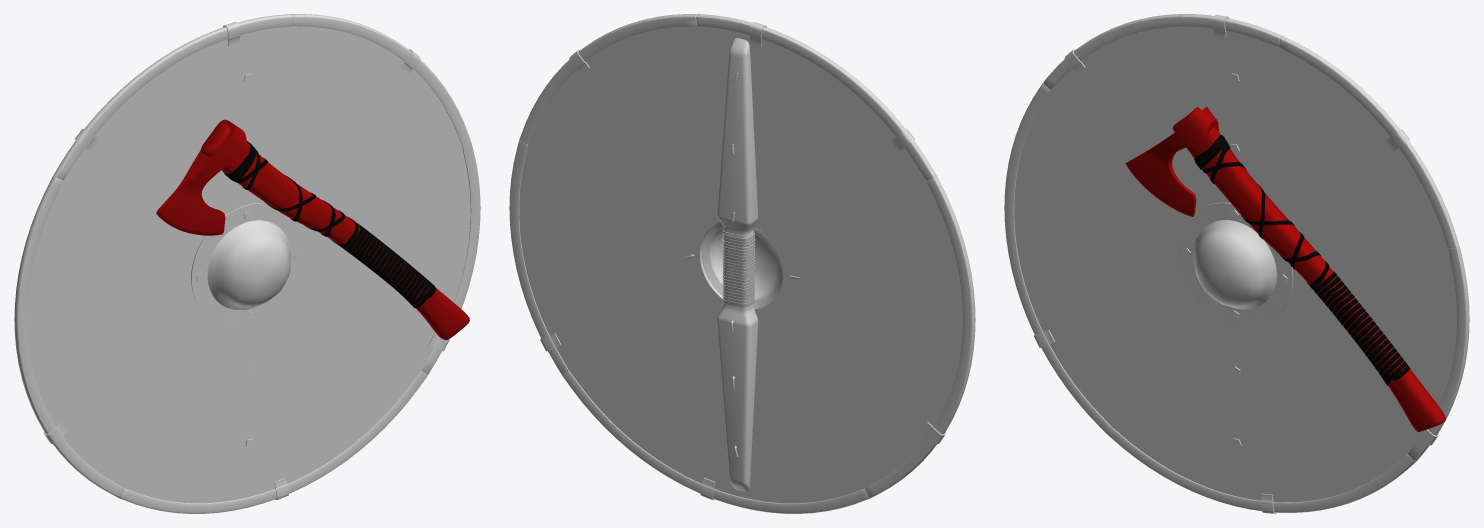
The model's file is axe_shield.fbx.
The picture shows the model from 3 angles, left to right: view 1: azimuth 30°, elevation 25°; view 2: azimuth 150°, elevation 25°; view 3: azimuth 330°, elevation 25°; orthographic projection.
Parts seen in each view (by area): view 1: Shield, Axe.002; view 2: Shield; view 3: Shield, Axe.002.
Boxes of the visible parts, bbox=[...] form: Shield: bbox=[14, 14, 480, 513]; Axe.002: bbox=[156, 119, 469, 339]; Shield: bbox=[509, 14, 975, 513]; Shield: bbox=[1004, 14, 1469, 513]; Axe.002: bbox=[1125, 106, 1445, 431].
Bounding box in the file's own units: 79.97 × 80.16 × 8.48.
